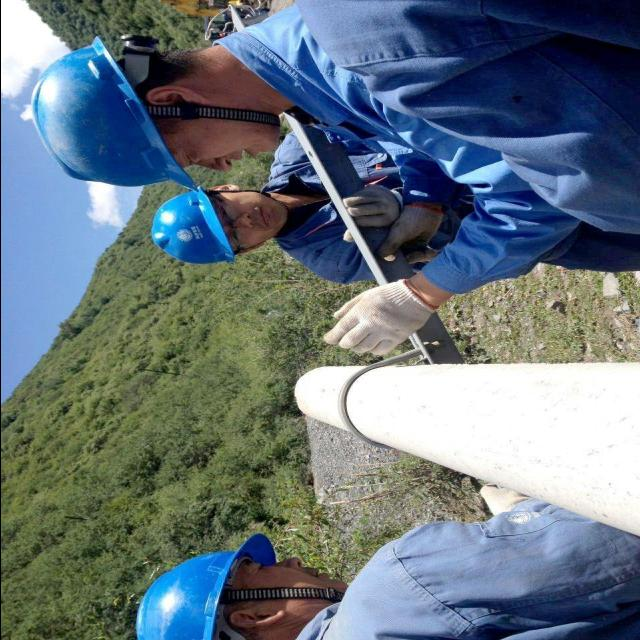helmet: (19, 32, 197, 195), (124, 524, 276, 640), (127, 188, 241, 270)
